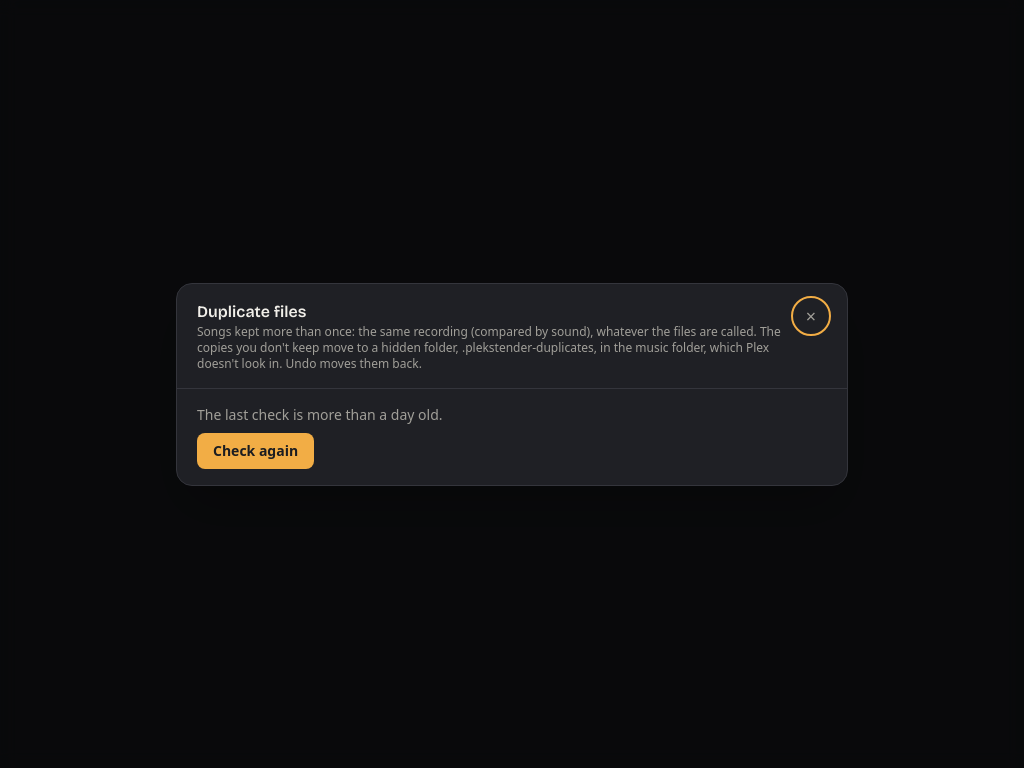
Test: offers a new check when the last one is old, and shows its progress
expect the text "The last check is more than a day old." is shown: met, box [197, 404, 442, 424]
Click the button "Check again" at coordinates (256, 450), box [197, 432, 314, 468]
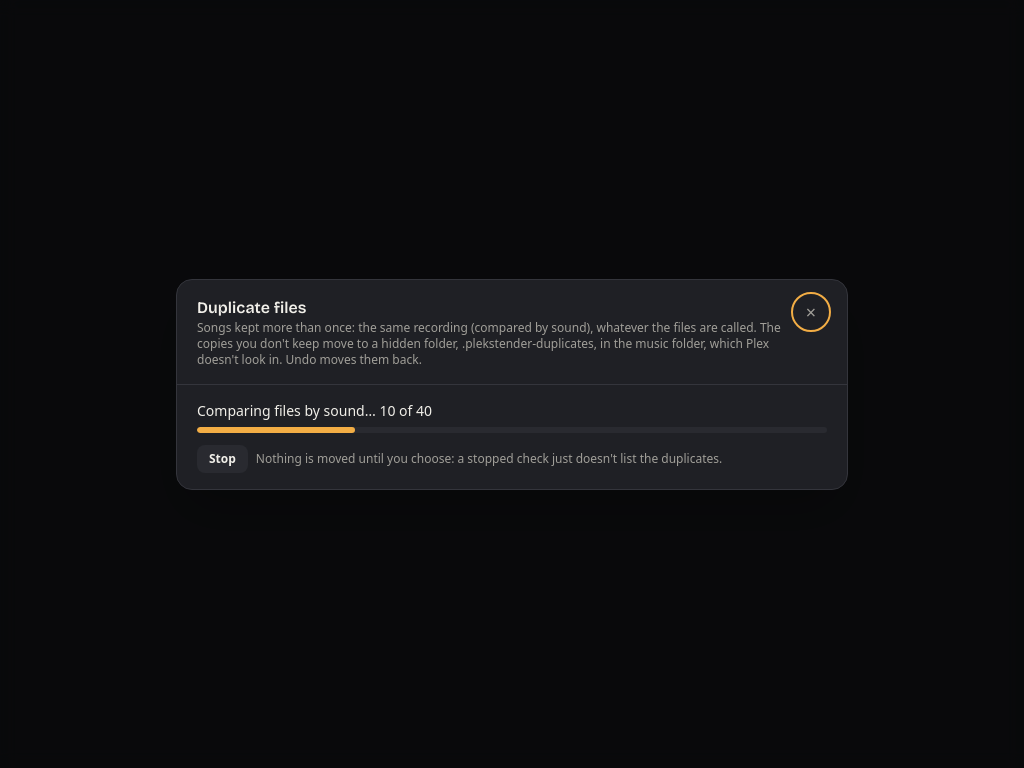
expect the text "Comparing files by sound… 10 of 40" is shown: met, box [197, 400, 432, 420]
